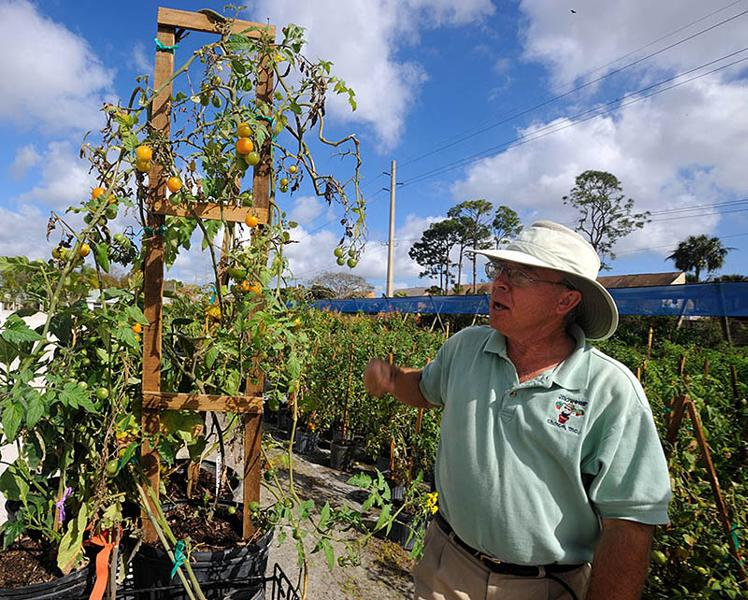person: (358, 219, 670, 600)
